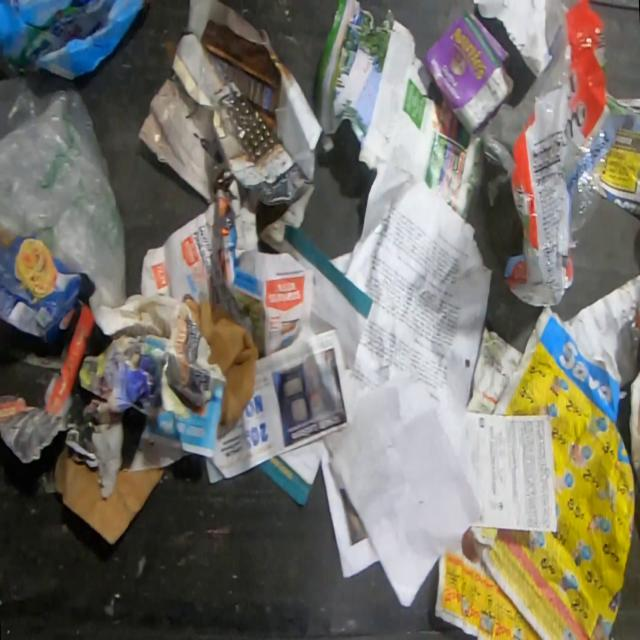cardboard: (51, 442, 167, 550), (0, 0, 151, 81), (423, 8, 517, 135), (184, 295, 262, 427), (0, 236, 88, 348)
soft_plastic: (476, 0, 618, 310), (0, 70, 130, 310)
